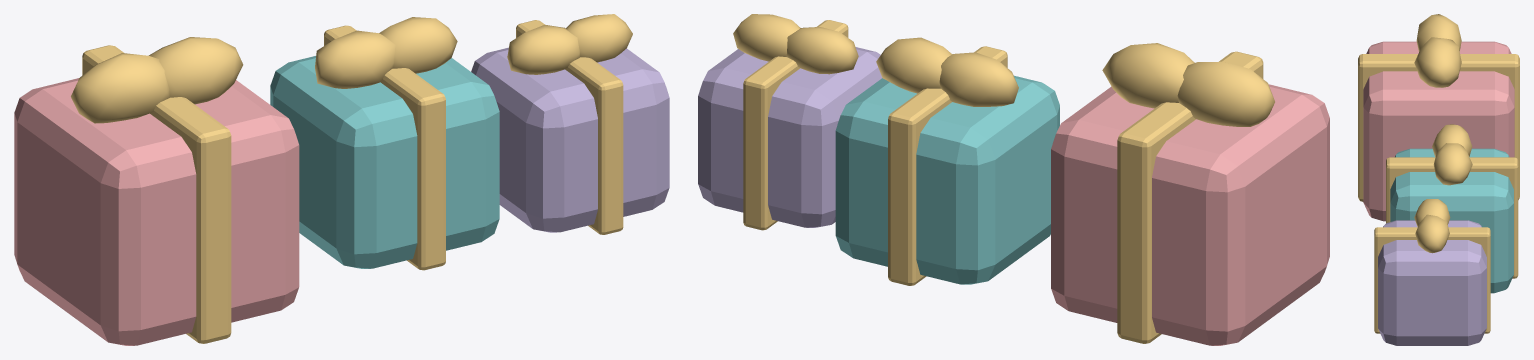
File: lagoon_alpine_gifts.glb
3 views of the same model, side by side, from view 1: azimuth 30°, elevation 25°; view 2: azimuth 150°, elevation 25°; view 3: azimuth 270°, elevation 25° (orthographic). The views are drawn at different scales.
Parts seen in each view (by area): view 1: lagoon_alpine_gifts.001; view 2: lagoon_alpine_gifts.001; view 3: lagoon_alpine_gifts.001.
Part boxes in pixels (x1,y1,x2,y2): lagoon_alpine_gifts.001: (14,14,669,345); lagoon_alpine_gifts.001: (698,14,1329,345); lagoon_alpine_gifts.001: (1358,14,1519,345).
Size of the model in its own units: 3.39 by 1.42 by 1.23.
